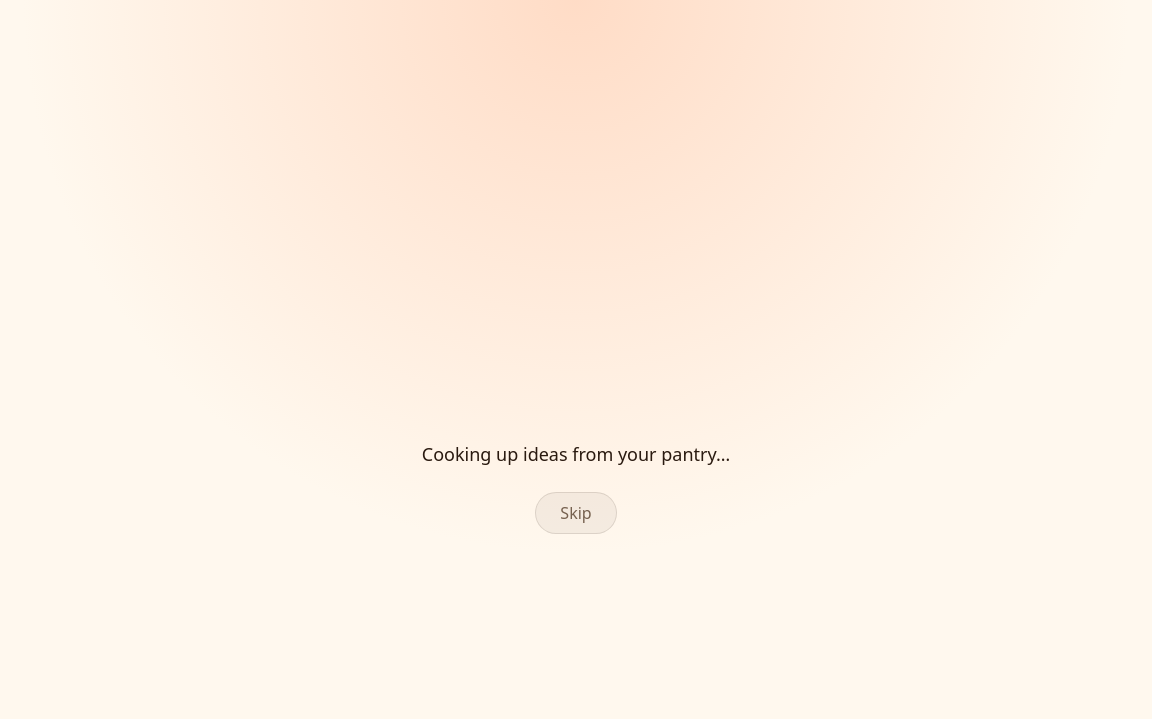
Scenario: recipes saved earlier aren't dealt again
The width and height of the screenshot is (1152, 719).
Check: the text "Cooking up ideas from your pantry…" is shown, box [422,440,730,468]
Click the button "Skip".
click(576, 512)  # box [535,492,617,534]
(page scrolled)
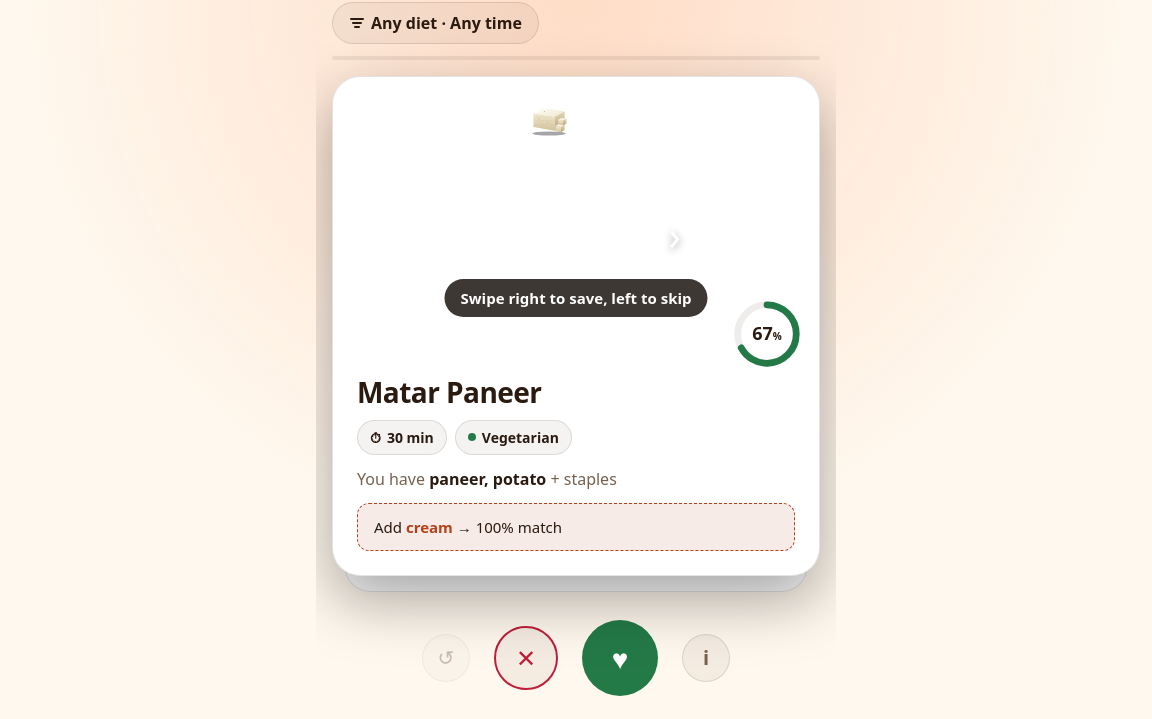
Check: the text "Cooking up ideas" is gone
Click the button named "Skip Matar Paneer".
click(526, 658)  # box [494,626,558,690]
(page scrolled)
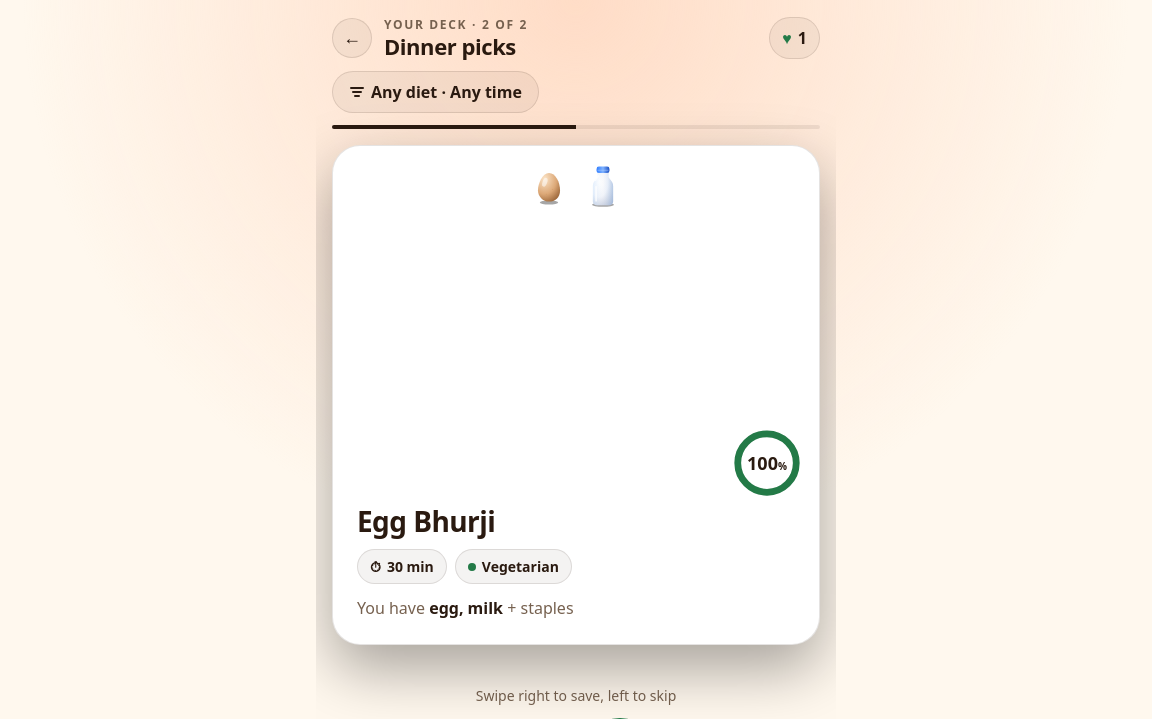
Check: the text "Your deck · 2 of 2" is shown, box [384,16,528,33]
